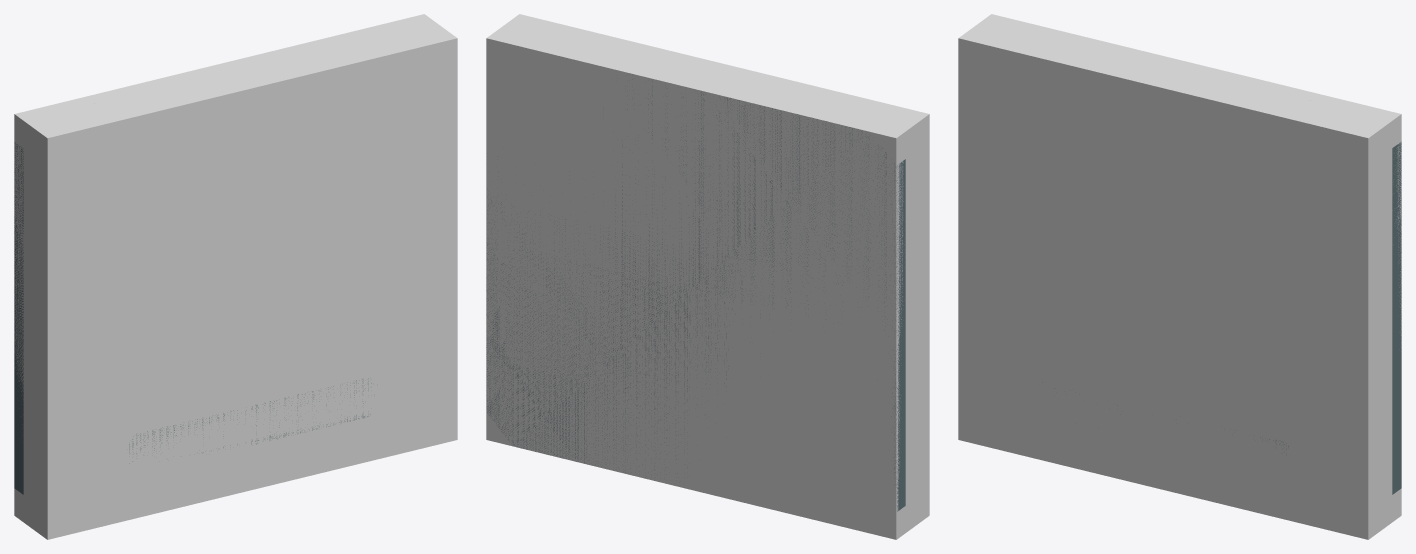
The model's file is VynilCase_1.fbx.
The picture shows the model from 3 angles, left to right: view 1: azimuth 30°, elevation 25°; view 2: azimuth 150°, elevation 25°; view 3: azimuth 330°, elevation 25°; orthographic projection.
Parts seen in each view (by area): view 1: VynilCase_1_COL0, VynilCase_1_LOD0; view 2: VynilCase_1_COL0, VynilCase_1_LOD0; view 3: VynilCase_1_COL0, VynilCase_1_LOD0.
Boxes of the visible parts, x1,y1,x2,y2 form: VynilCase_1_COL0: (14, 14, 457, 539); VynilCase_1_LOD0: (14, 142, 371, 502); VynilCase_1_COL0: (486, 14, 929, 539); VynilCase_1_LOD0: (486, 79, 925, 511); VynilCase_1_COL0: (958, 14, 1401, 539); VynilCase_1_LOD0: (1042, 141, 1401, 509).
Size of what is drawn, in the model's own units: 3.17 by 2.97 by 0.4441.
